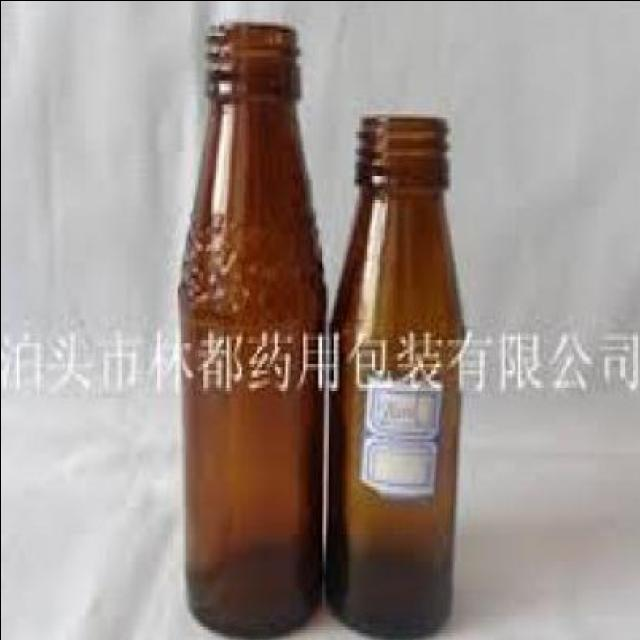kaca: (172, 19, 317, 634), (324, 110, 458, 632)
